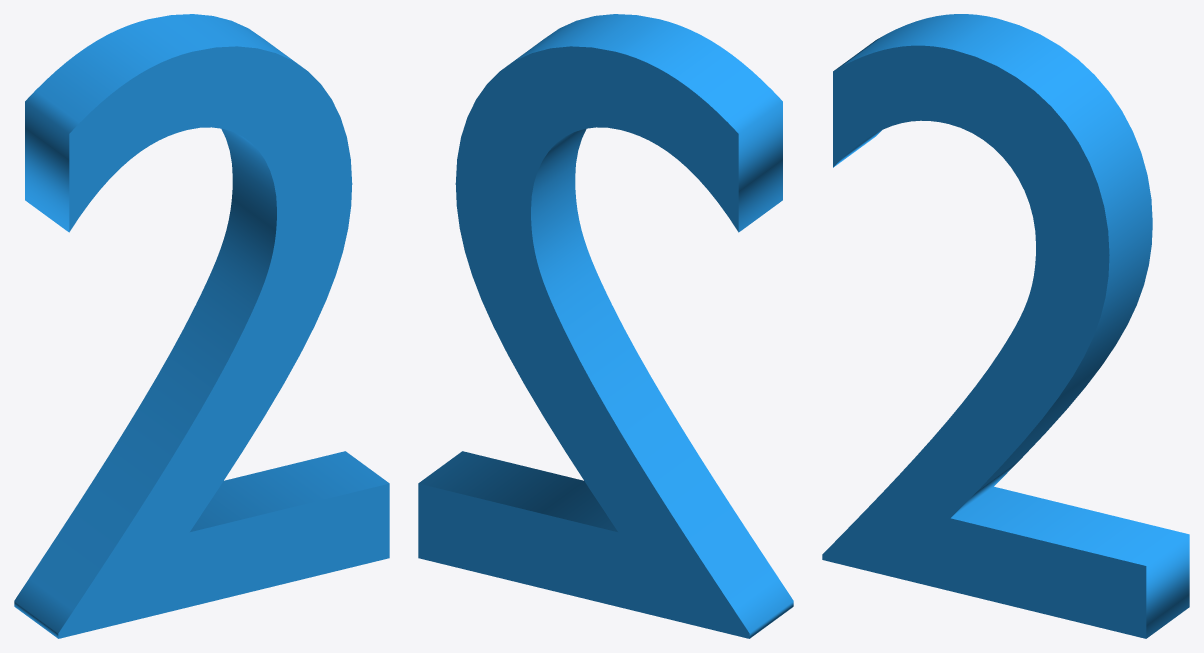
Rendered from Luminorine.glb.
3 views of the same model, side by side, from view 1: azimuth 30°, elevation 25°; view 2: azimuth 150°, elevation 25°; view 3: azimuth 330°, elevation 25° (orthographic). The views are drawn at different scales.
Parts seen in each view (by area): view 1: 2; view 2: 2; view 3: 2.
Boxes of the visible parts, x1,y1,x2,y2 form: 2: [14, 14, 389, 638]; 2: [418, 14, 793, 638]; 2: [822, 14, 1189, 638].
Size of the model in its own units: 0.432 by 0.691 by 0.1.
